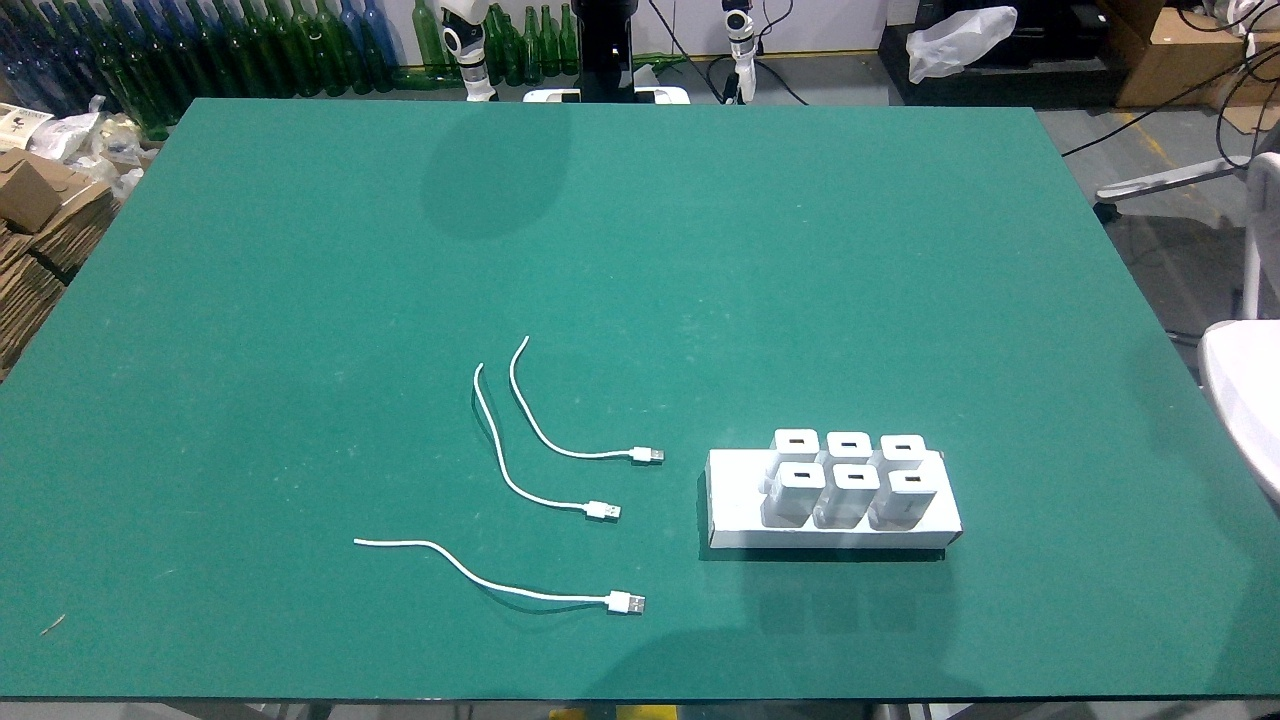usb_a_port: (787, 437, 808, 446), (839, 441, 859, 450), (792, 471, 812, 480), (846, 473, 866, 482), (903, 476, 924, 484), (893, 444, 913, 452)
